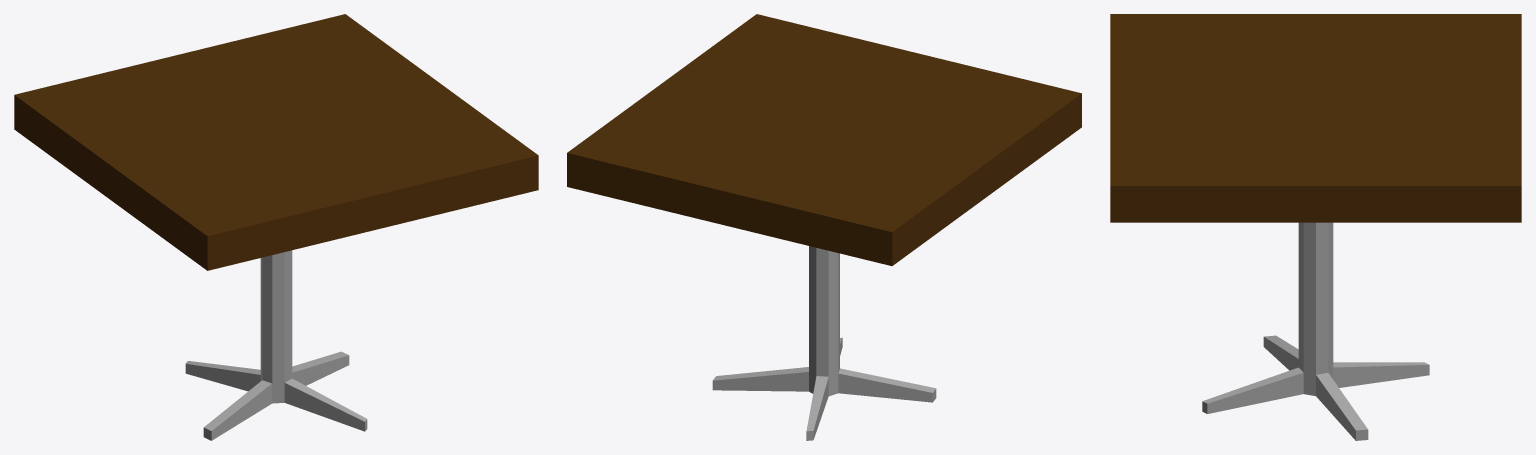
File: TableC.fbx
3 views of the same model, side by side, from view 1: azimuth 30°, elevation 25°; view 2: azimuth 150°, elevation 25°; view 3: azimuth 270°, elevation 25° (orthographic). The views are drawn at different scales.
Visible parts, largest first — view 1: Table.001; view 2: Table.001; view 3: Table.001.
Boxes of the visible parts, bbox=[...] form: Table.001: bbox=[14, 14, 538, 440]; Table.001: bbox=[567, 14, 1081, 440]; Table.001: bbox=[1110, 14, 1521, 440].
Bounding box in the file's own units: 93.65 × 74.58 × 94.64.
